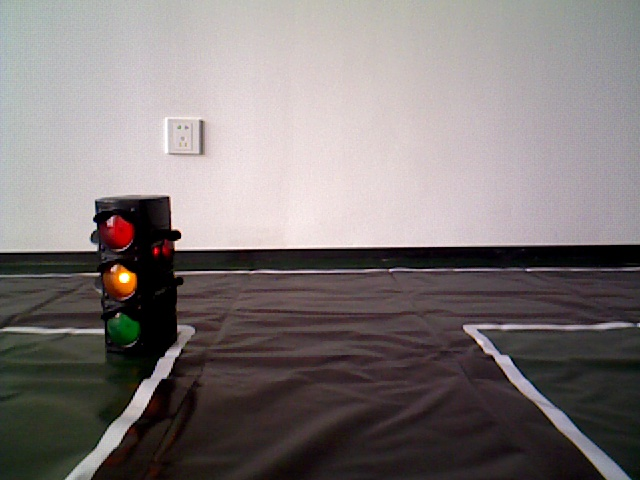yellow: (98, 198, 177, 355)
